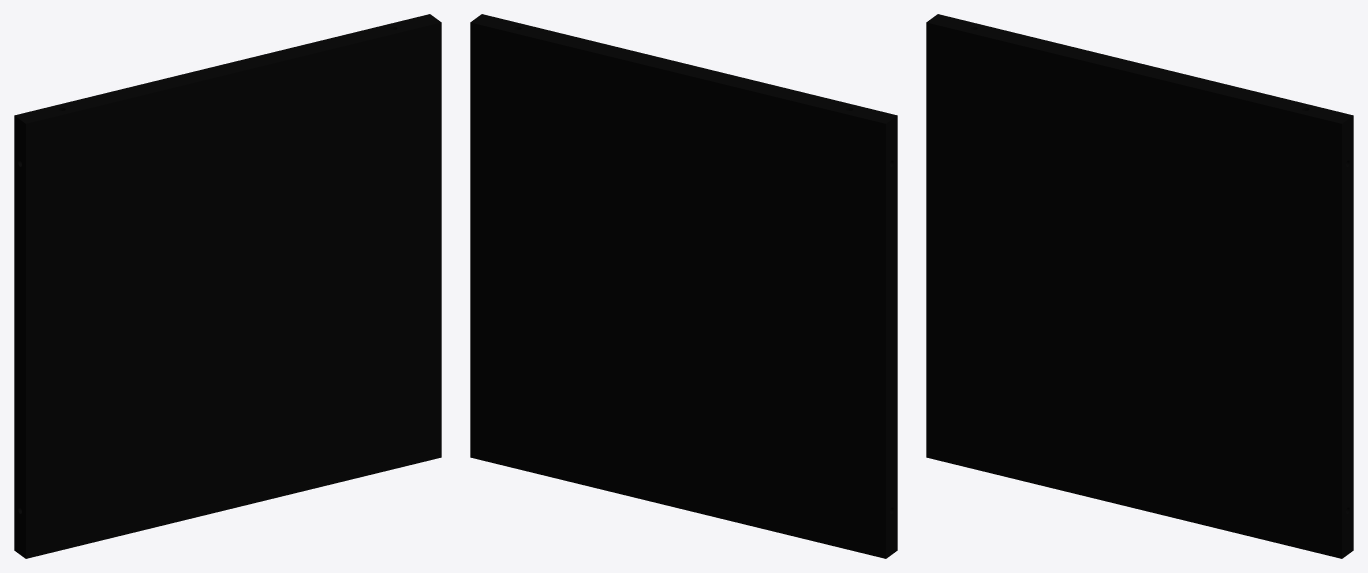
File: Panel_415x415_UV.glb
3 views of the same model, side by side, from view 1: azimuth 30°, elevation 25°; view 2: azimuth 150°, elevation 25°; view 3: azimuth 330°, elevation 25° (orthographic).
Visible parts, largest first — view 1: Panel_415x415; view 2: Panel_415x415; view 3: Panel_415x415.
Part boxes in pixels (box(x1,y1,x2,y2)): Panel_415x415: box(14, 14, 441, 558); Panel_415x415: box(470, 14, 897, 558); Panel_415x415: box(926, 14, 1353, 558).
Bounding box in the file's own units: 0.415 × 0.415 × 0.02.
Materials: 1 (1 with a texture image).
